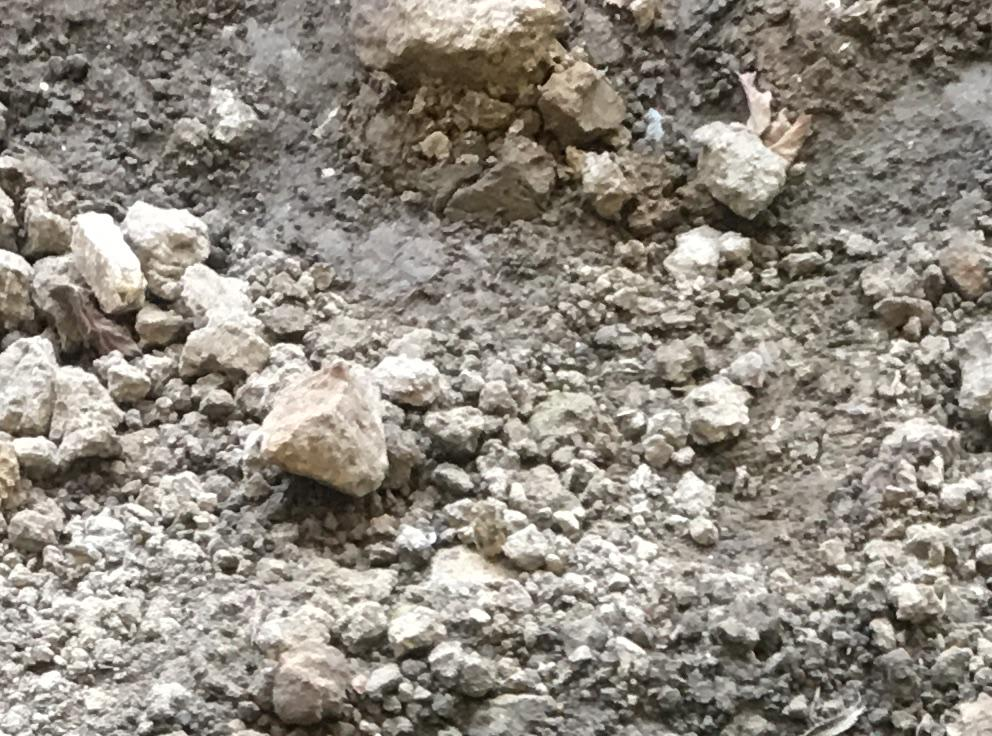block: (264, 358, 397, 502), (180, 267, 271, 374), (60, 207, 145, 312), (695, 122, 783, 218), (50, 363, 120, 464)
